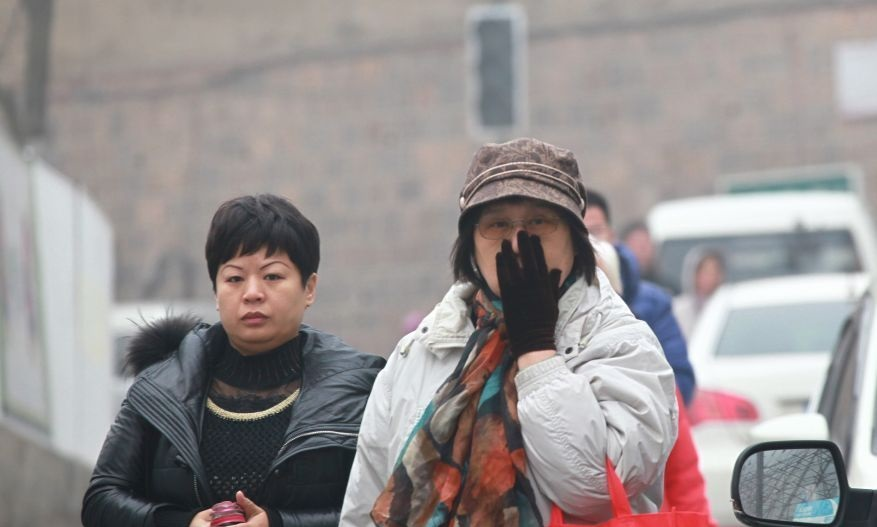face: (476, 195, 574, 292), (214, 242, 306, 341)
